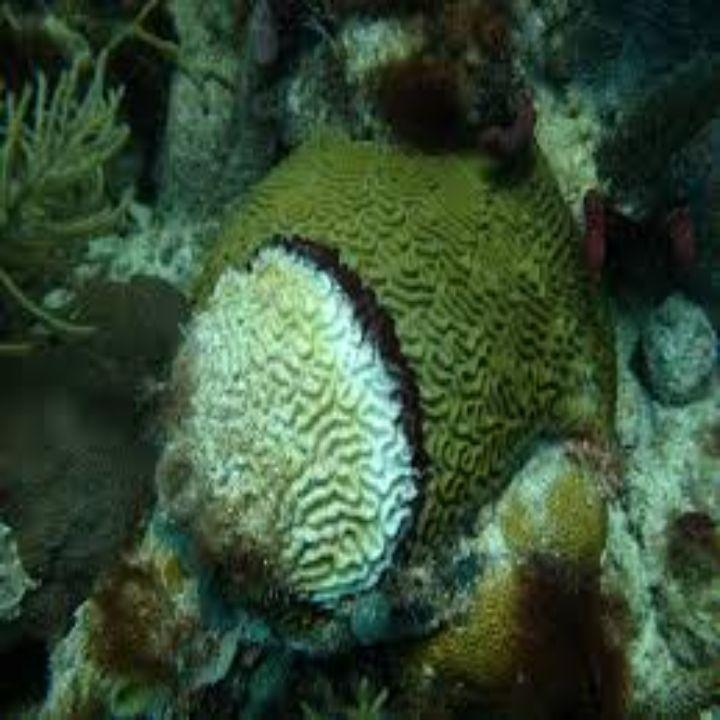Band disease: (106, 225, 490, 628)
